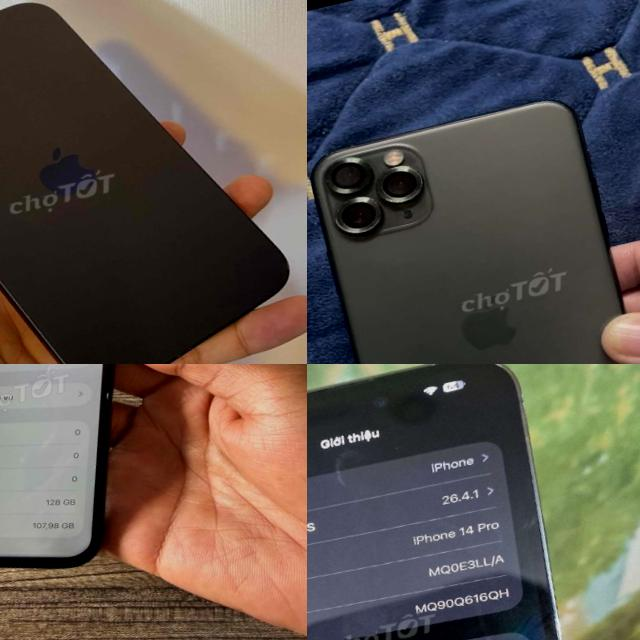scratch: (324, 435, 370, 499), (354, 186, 390, 216), (416, 171, 441, 192), (322, 154, 347, 172)
